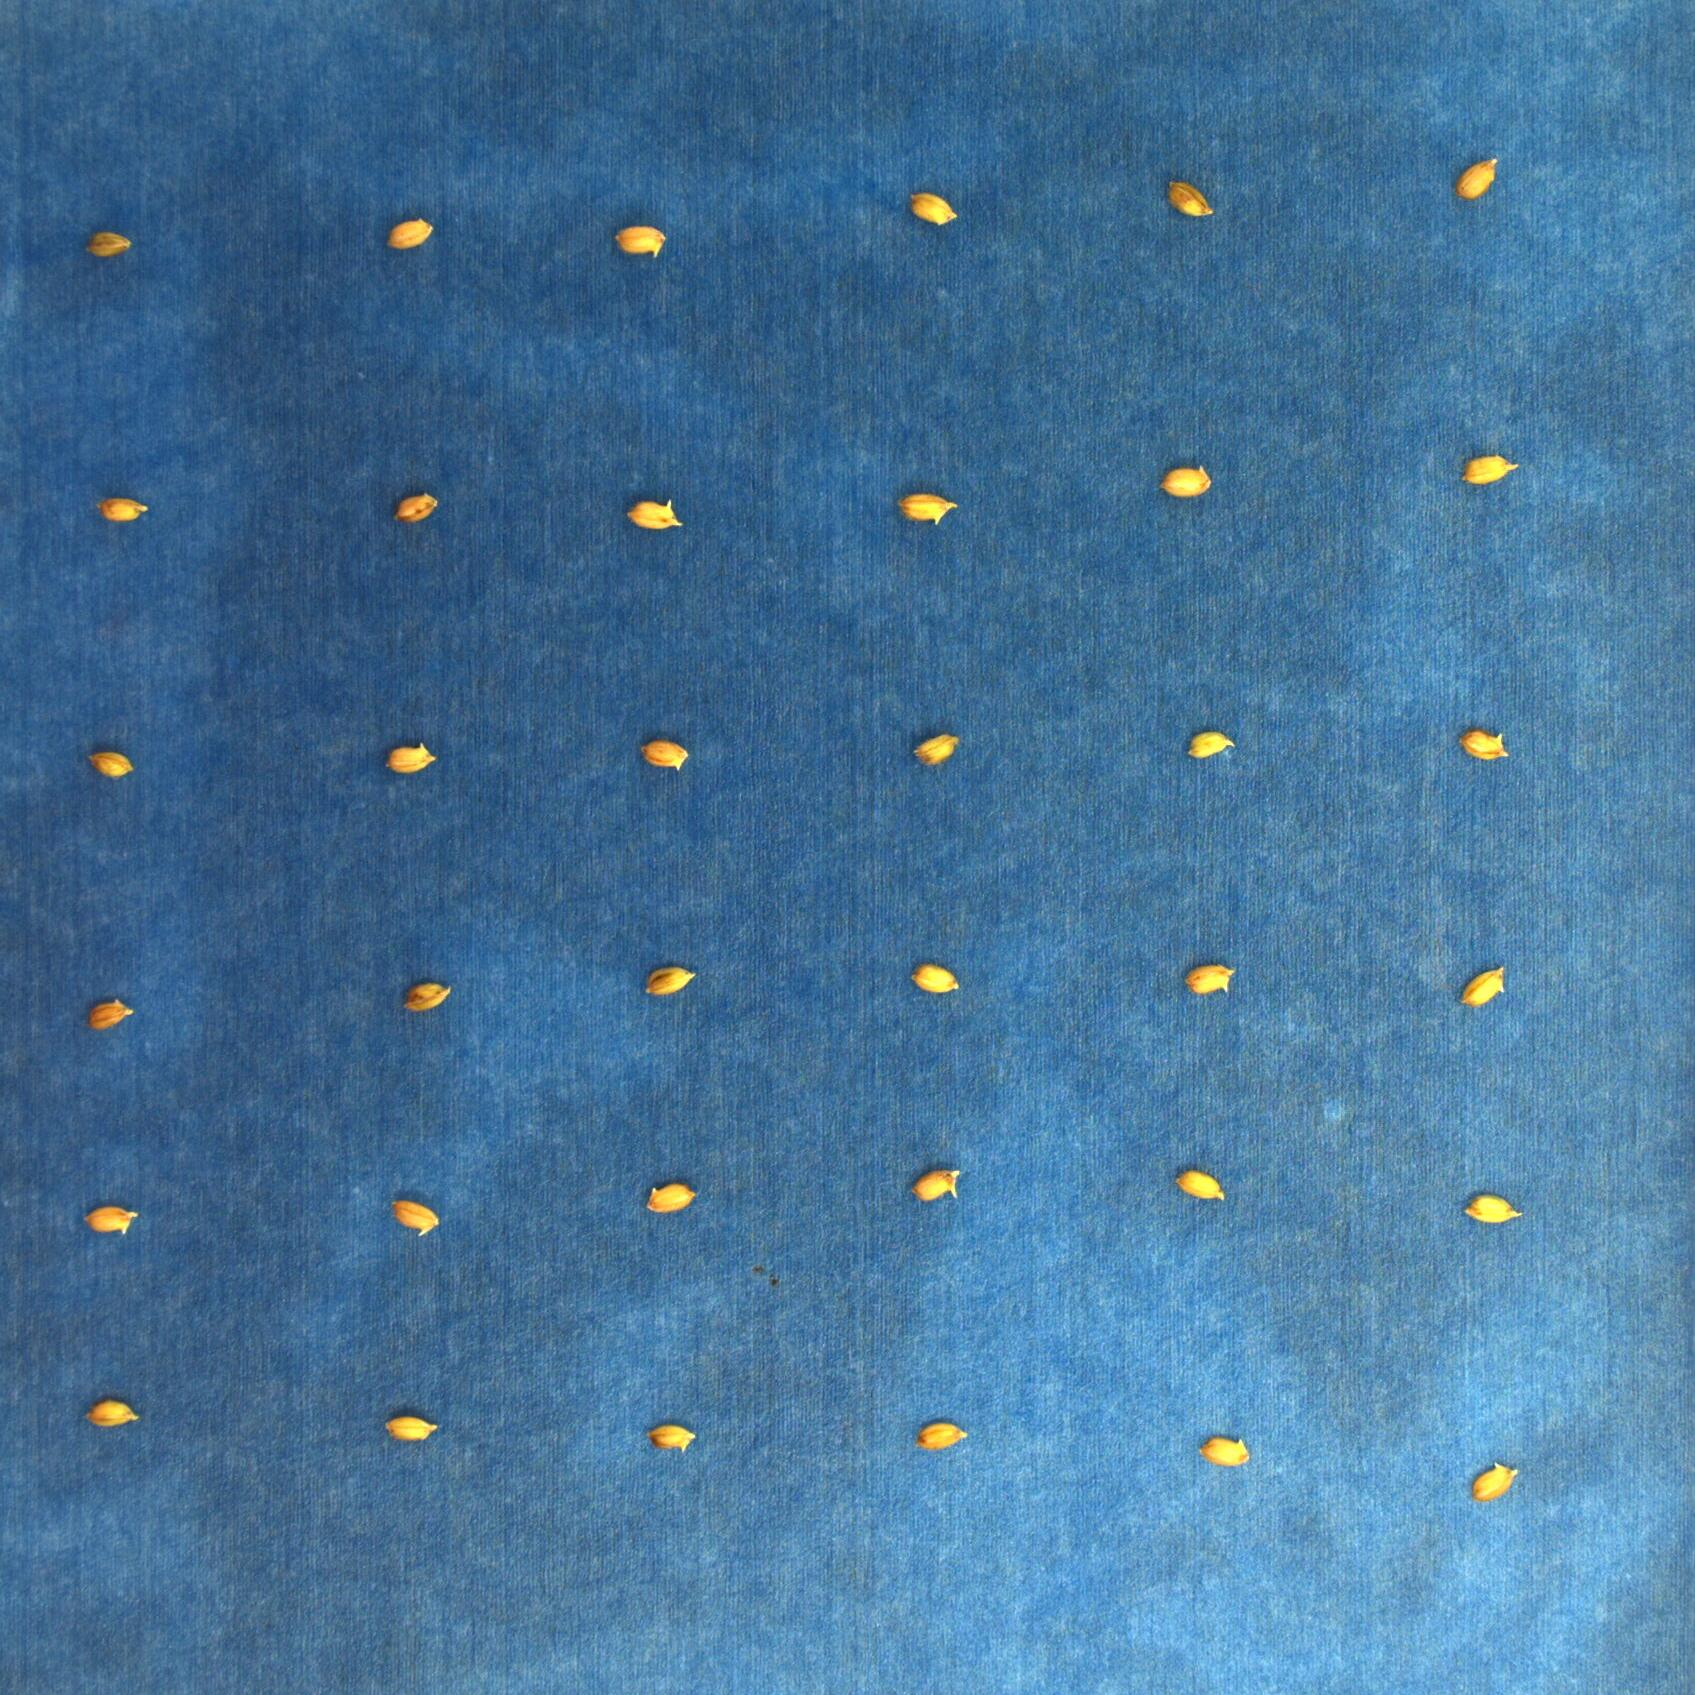not sprout: (906, 1166, 969, 1208), (1451, 726, 1516, 765), (1163, 174, 1218, 217), (894, 490, 959, 528), (78, 1201, 141, 1239), (1194, 1430, 1254, 1468), (1458, 969, 1509, 1014), (1468, 1461, 1523, 1503), (906, 189, 962, 230), (1456, 154, 1503, 200), (1464, 1192, 1529, 1225), (643, 1420, 702, 1456), (380, 744, 439, 778), (397, 981, 453, 1017), (906, 730, 958, 768), (1178, 1169, 1229, 1208), (626, 498, 688, 529), (386, 1201, 442, 1236), (618, 224, 667, 261), (1458, 456, 1516, 487), (643, 1180, 692, 1215), (1159, 466, 1214, 498), (643, 965, 694, 1000), (911, 962, 962, 997), (638, 737, 691, 770), (85, 1400, 143, 1430), (1180, 965, 1234, 997), (385, 216, 432, 251), (383, 1412, 442, 1440), (1183, 730, 1236, 761), (390, 490, 438, 523), (96, 494, 149, 523), (88, 750, 137, 781), (85, 227, 129, 261), (82, 1001, 130, 1031), (913, 1423, 967, 1447)
